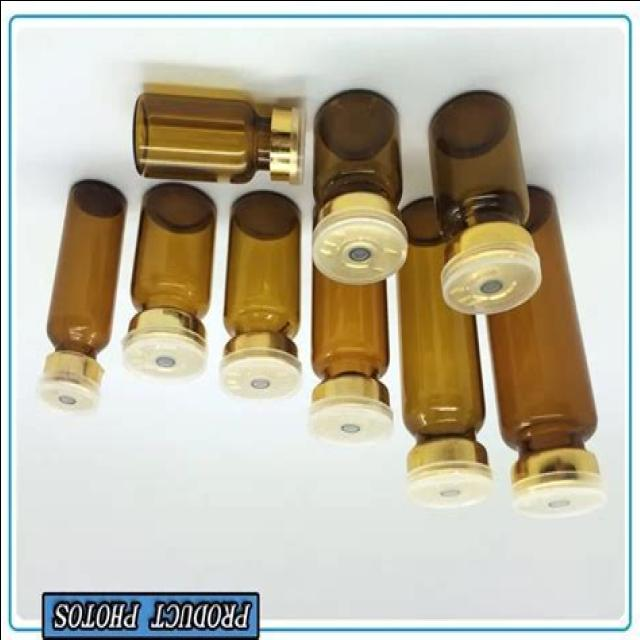vial: (321, 224, 404, 284), (438, 250, 534, 300), (311, 402, 394, 448), (409, 468, 490, 506), (230, 355, 298, 399), (524, 472, 598, 510), (45, 366, 96, 416), (135, 333, 200, 372), (285, 110, 307, 188)
